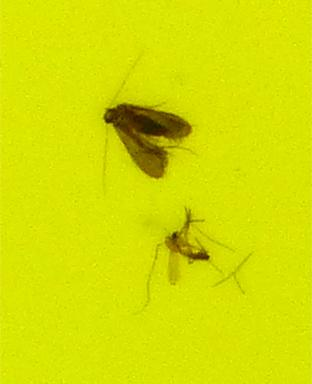Nematocera: (162, 207, 212, 284)
Trichoptera: (100, 100, 194, 180)
